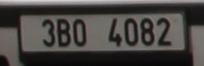0: (73, 18, 87, 47), (125, 18, 138, 46)
2: (157, 17, 172, 46)
3: (42, 18, 55, 47)
4: (109, 18, 123, 47)
8: (141, 18, 154, 46)
B: (57, 18, 71, 46)
